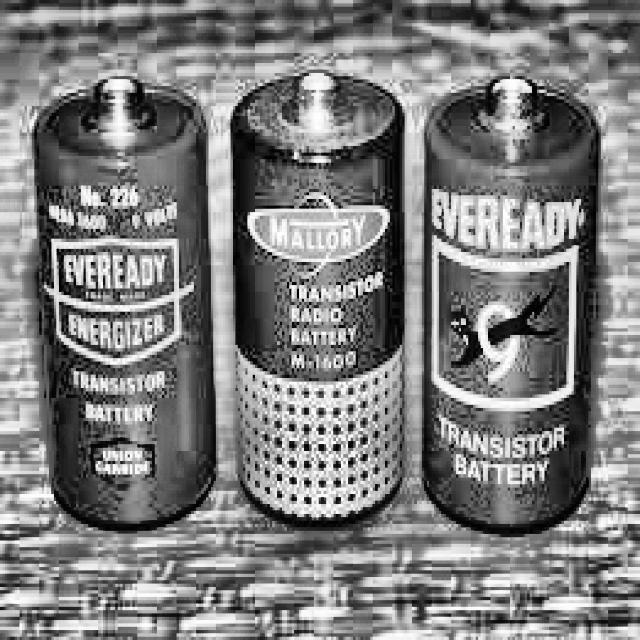Battery: (39, 86, 218, 514), (233, 73, 405, 514), (427, 80, 591, 524)
